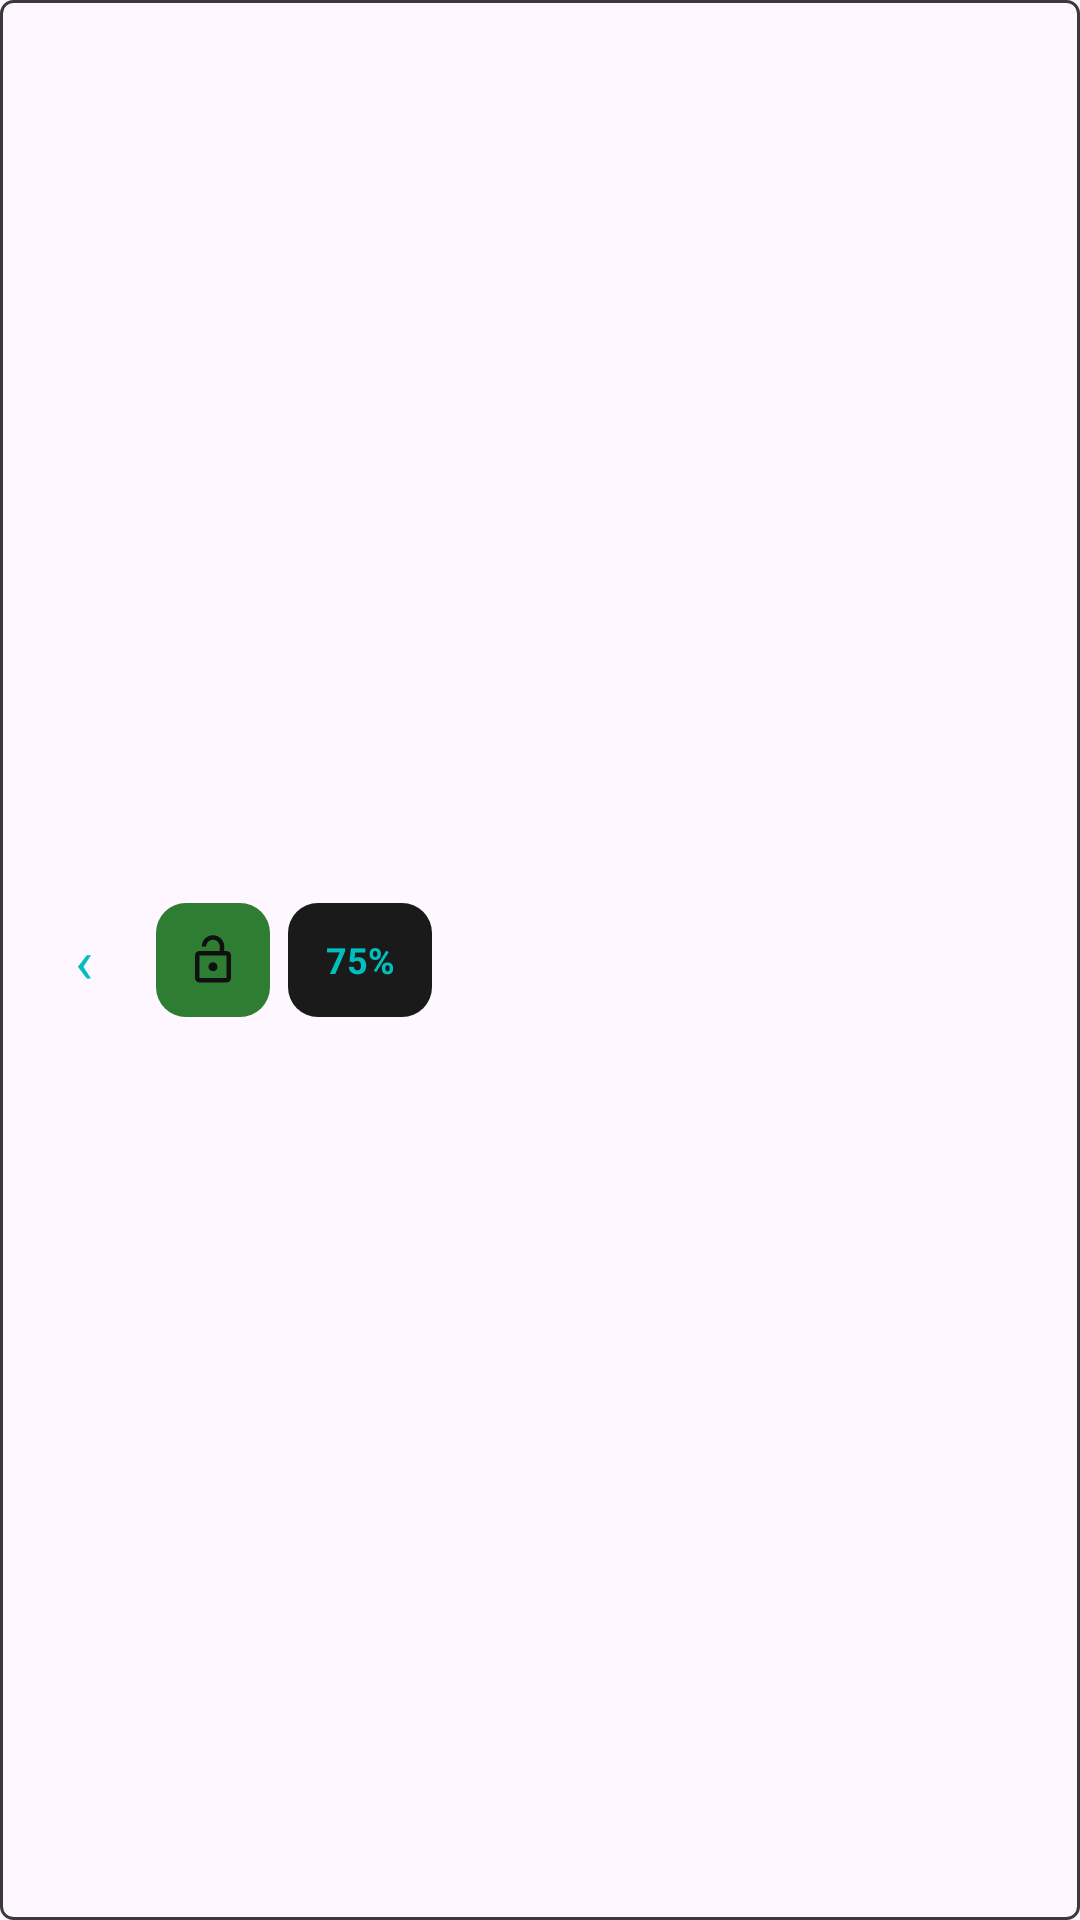

Icons on this 1080w x 1920h Android screen, each with the point to tap as point (x, y):
lock open: point (213, 960)
